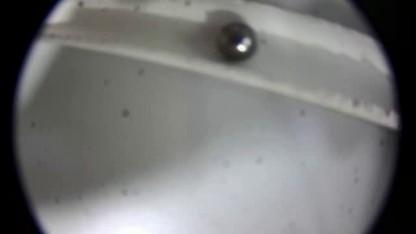gangzhu: (214, 22, 258, 63)
